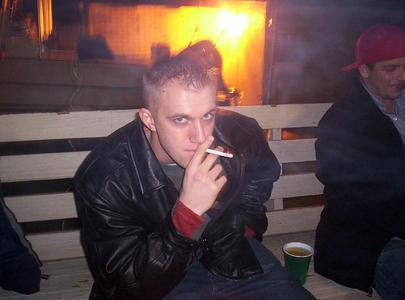person: (74, 51, 318, 300)
